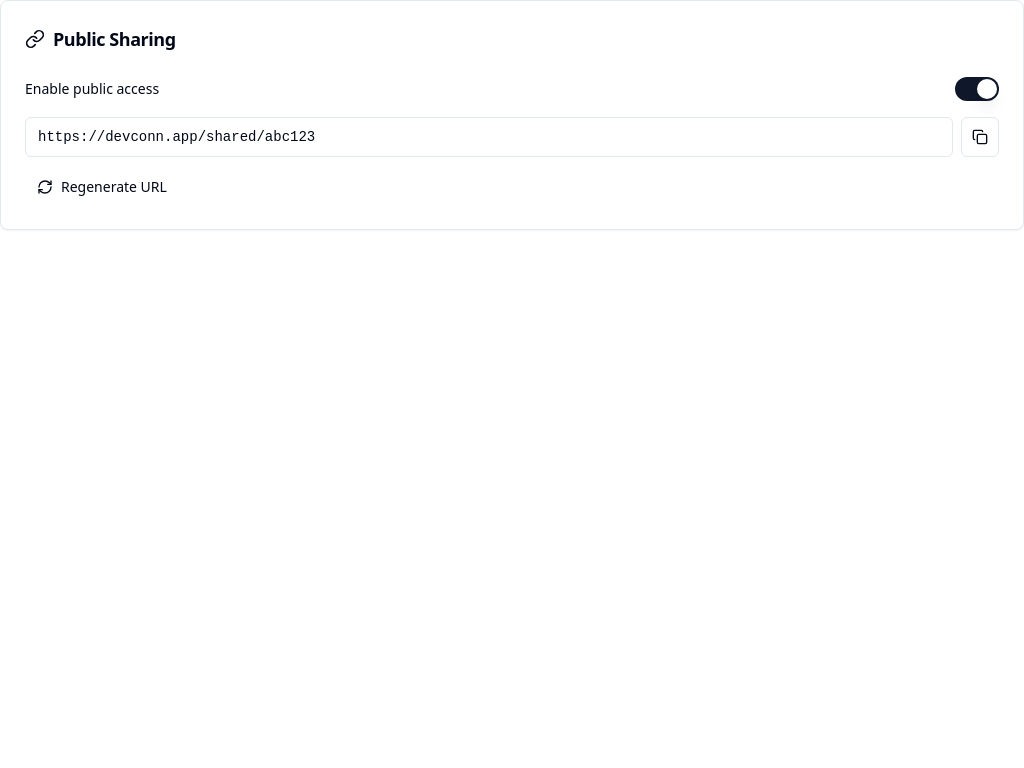
Test: SharePanel › shows regenerate confirmation dialog when clicking Regenerate URL
This screenshot has width=1024, height=768.
Click the button "Regenerate URL".
click(102, 187)  # box [25, 169, 179, 205]
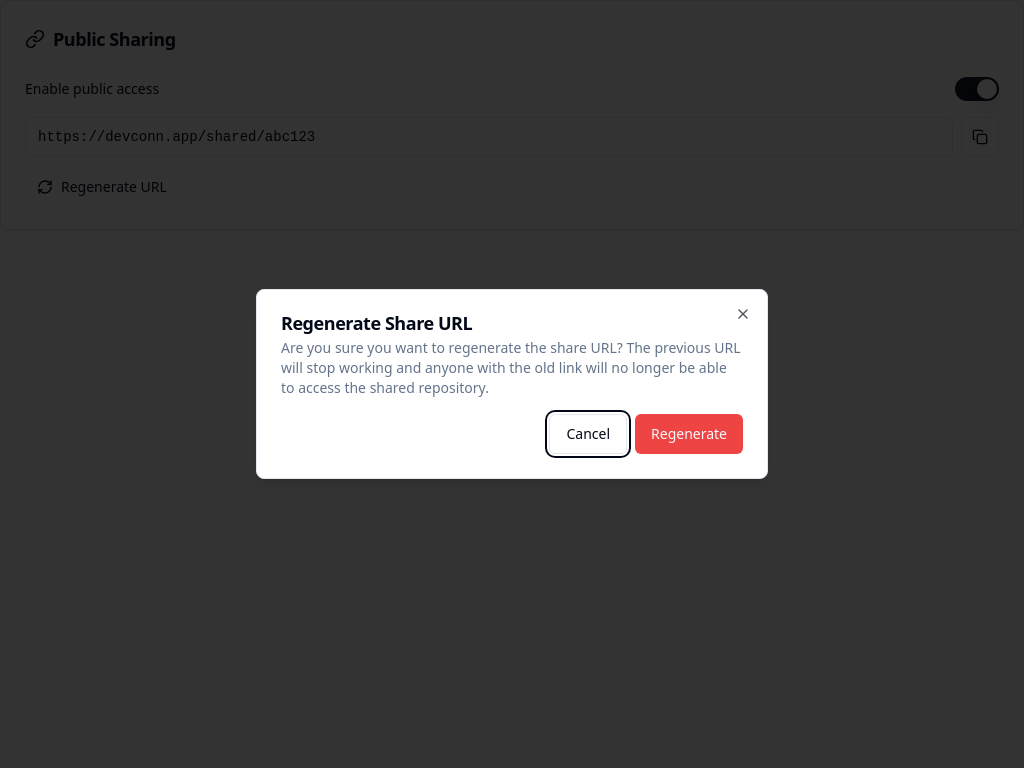
Result: the heading "Regenerate Share URL" is shown at [281, 311, 472, 335]
Result: the text "The previous URL will stop working" is shown at [281, 338, 741, 397]
Result: the button "Cancel" is shown at [549, 414, 627, 454]
